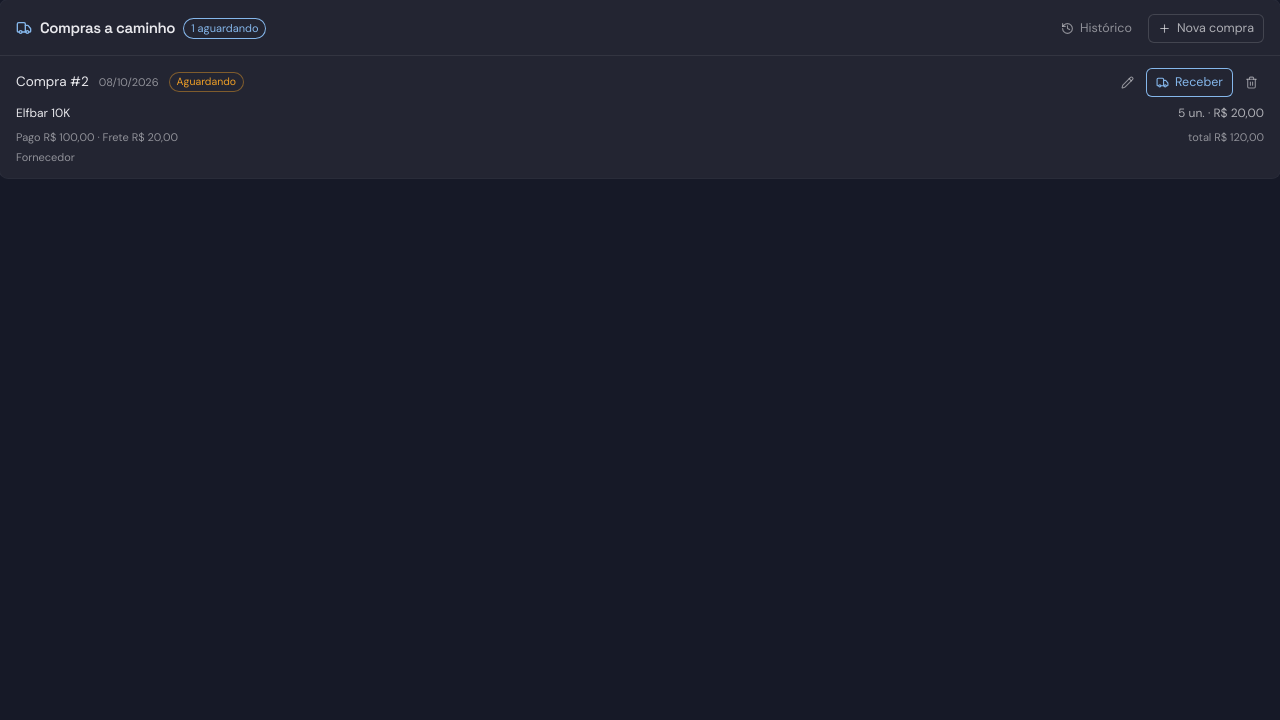
Test: edição de compras a caminho › preenche a compra e salva sem criar outra
Step 1. Click the button named "Editar compra #2" → (1128, 82), box x1=1115 y1=70 x2=1140 y2=95
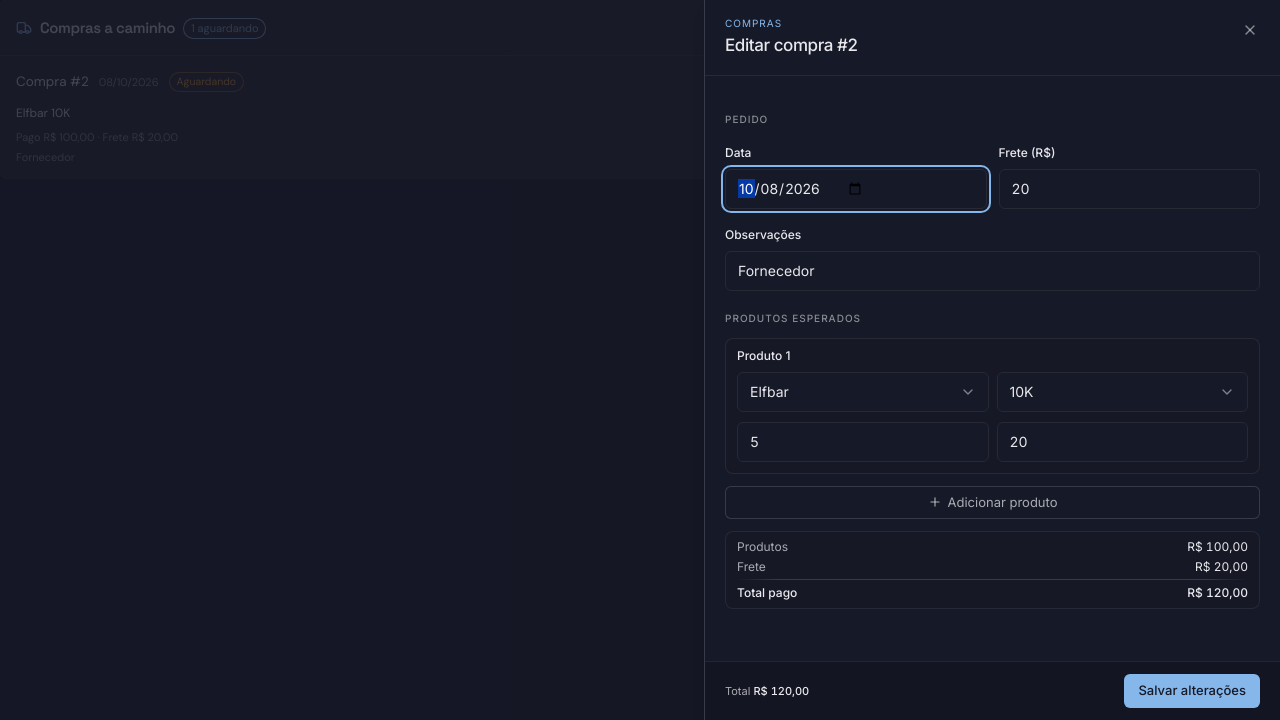
Check: the date field labelled "Data" holds "2026-10-08", box x1=725 y1=168 x2=986 y2=208
Check: the field labelled "Observações" holds "Fornecedor", box x1=725 y1=250 x2=1260 y2=290
Check: the number field labelled "Frete (R$)" holds "20", box x1=998 y1=168 x2=1260 y2=208
Step 2. Replace the text in the number field named "Quantidade esperada do produto 1" with "8" → (863, 442), box x1=737 y1=422 x2=988 y2=462
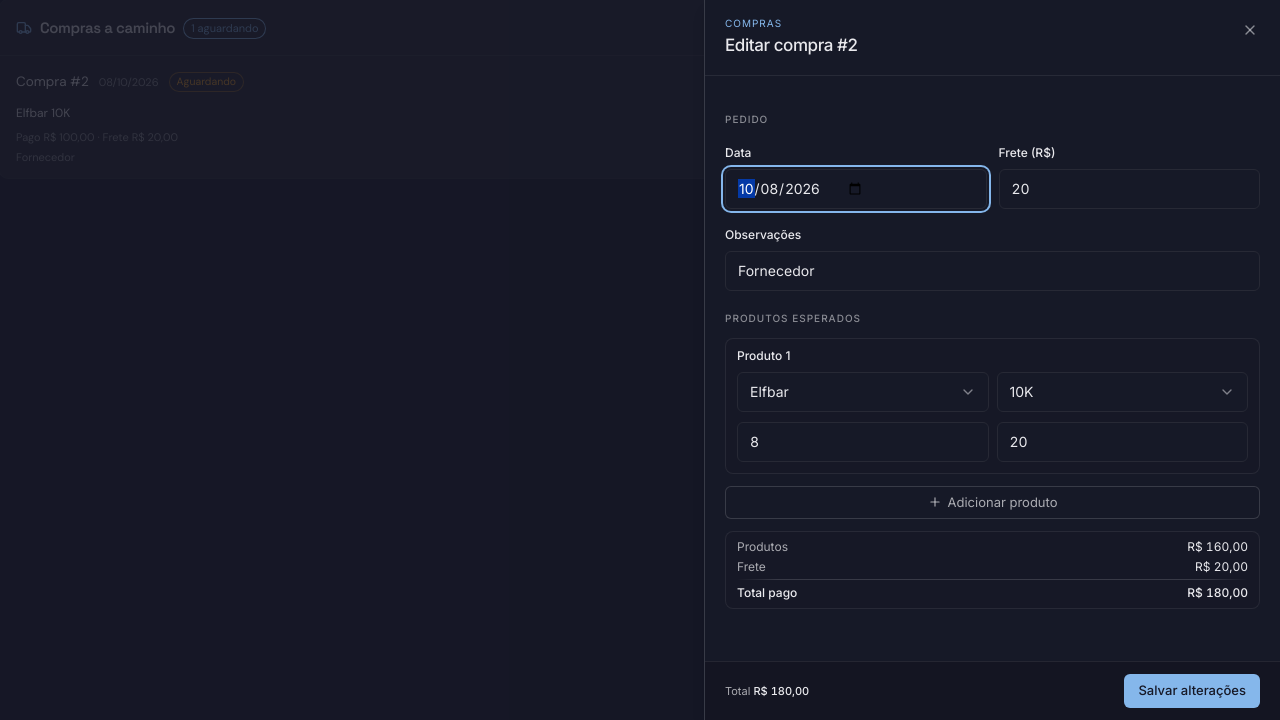
Step 3. Replace the text in the number field labelled "Frete (R$)" with "30" → (1129, 188), box x1=998 y1=168 x2=1260 y2=208
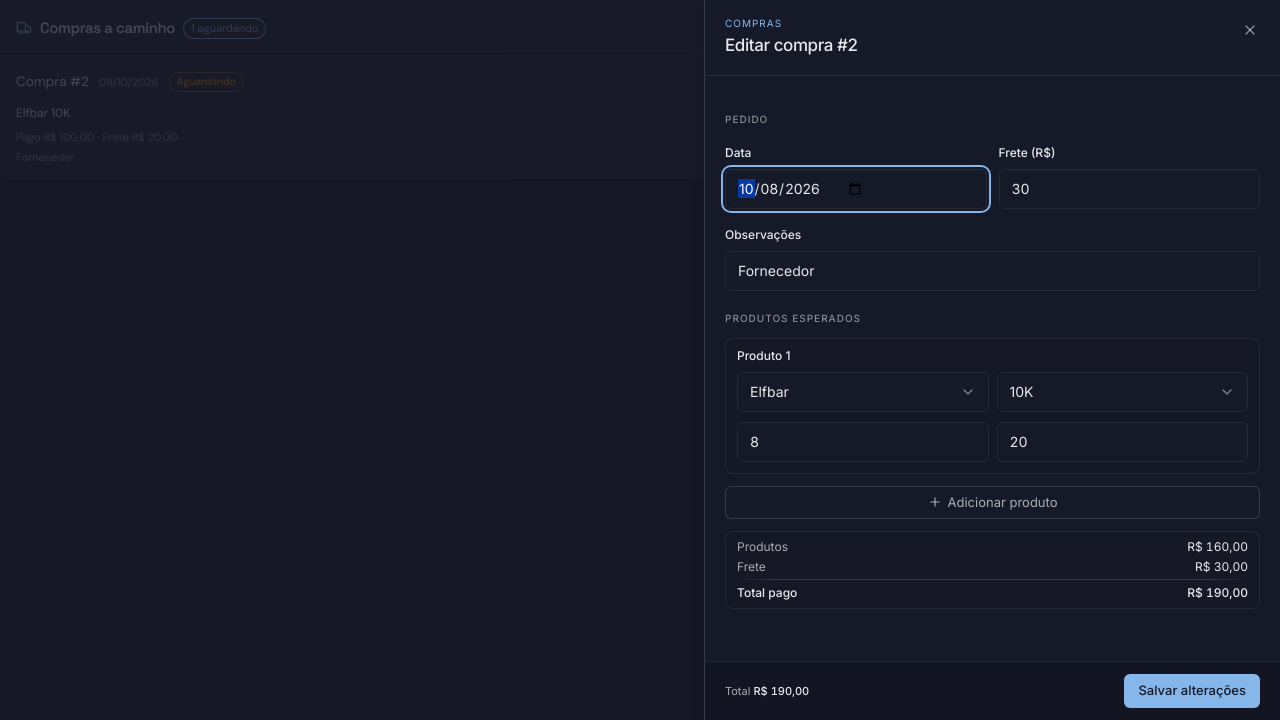
Step 4. Click the button "Salvar alterações" → (1192, 691), box x1=1124 y1=674 x2=1260 y2=708
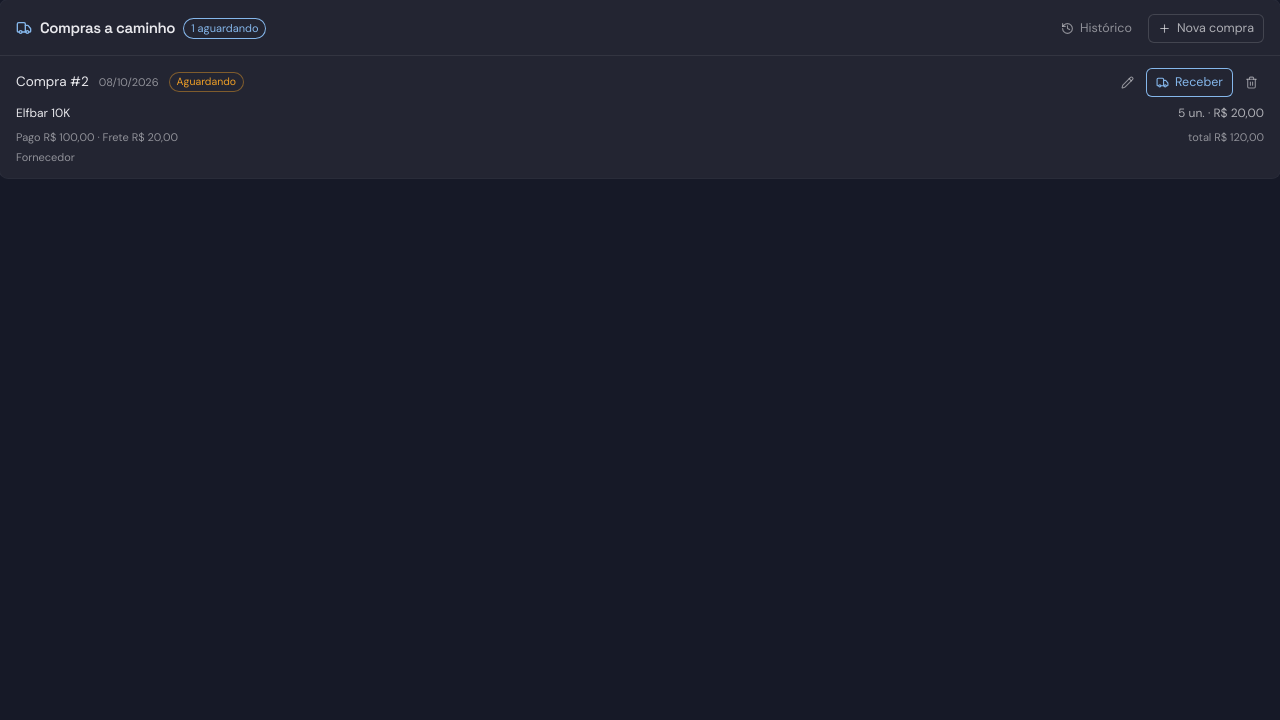
Check: the button "Salvar alterações" is gone
